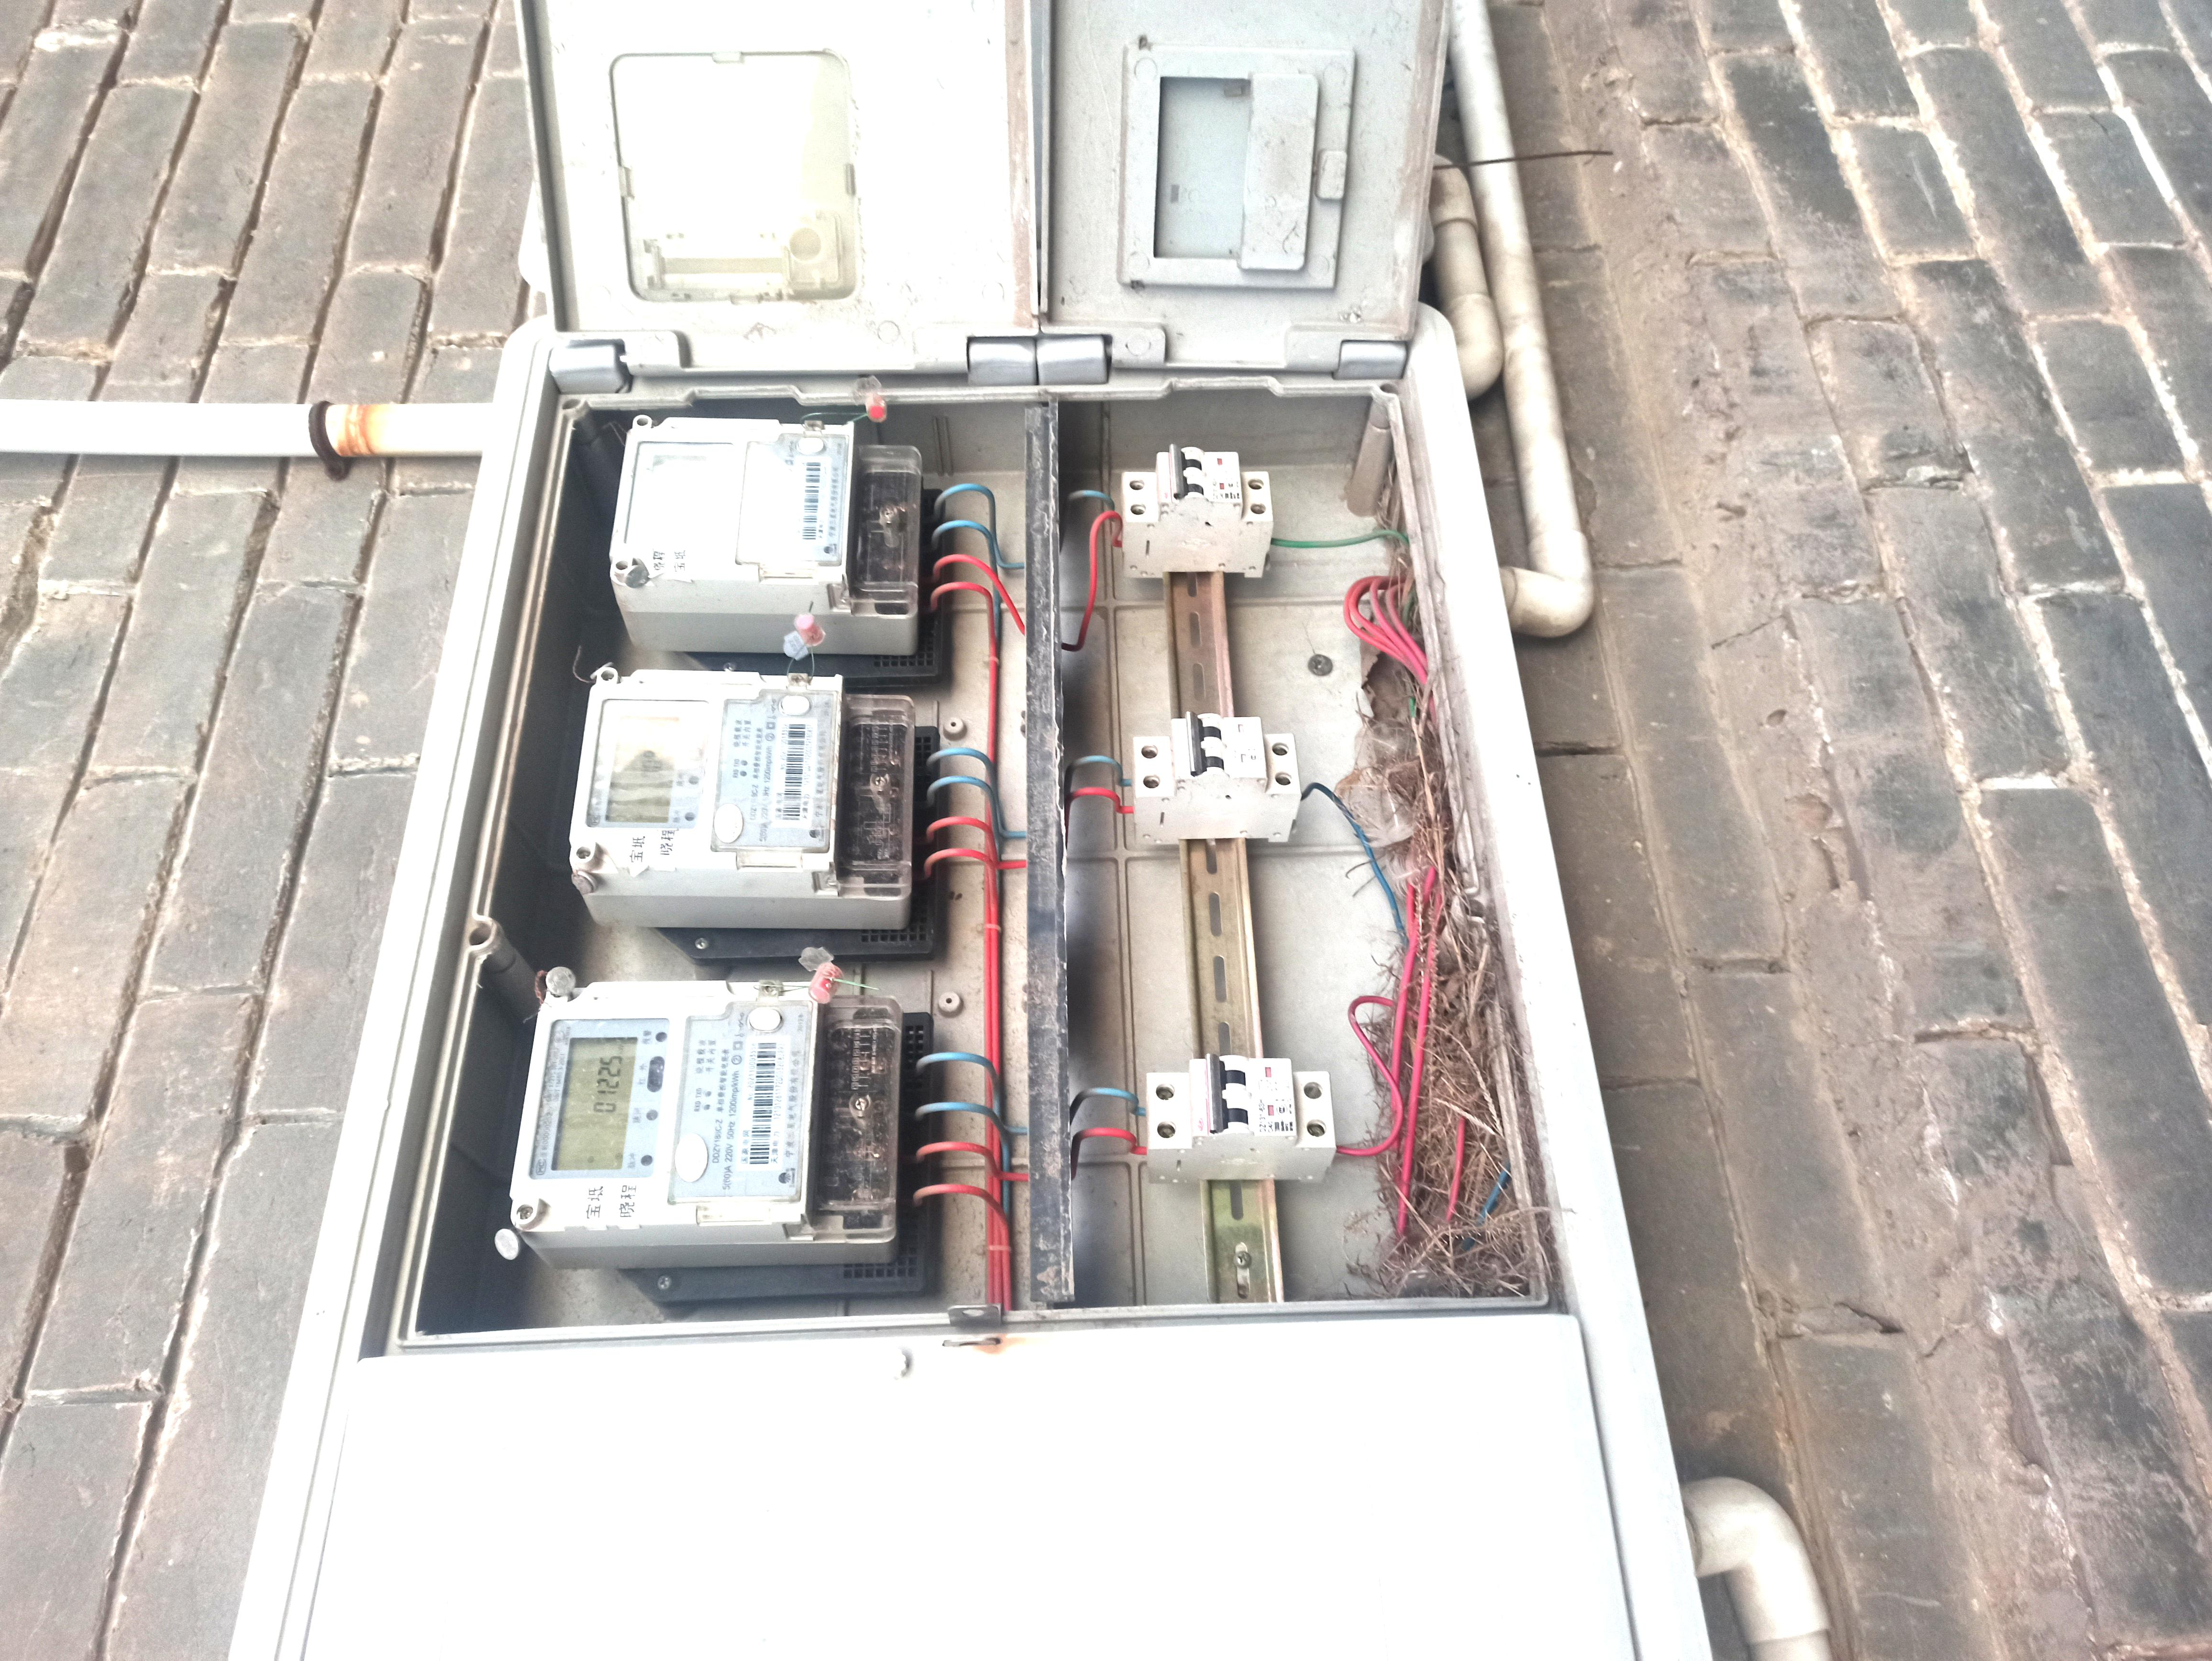digital: (515, 981, 815, 1225), (567, 670, 841, 864), (600, 417, 850, 590)
